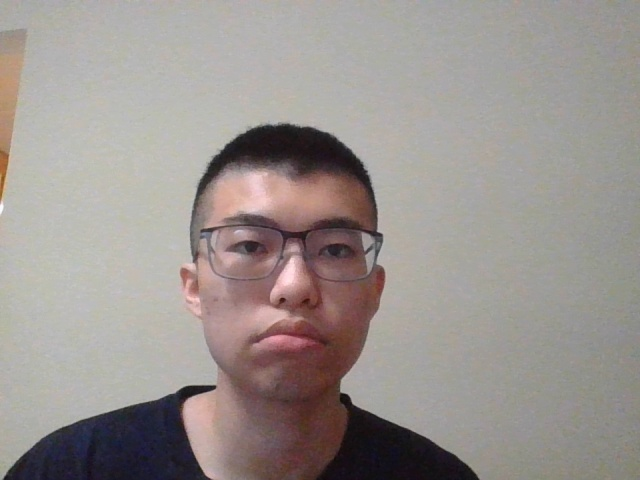neutral: (177, 120, 388, 403)
